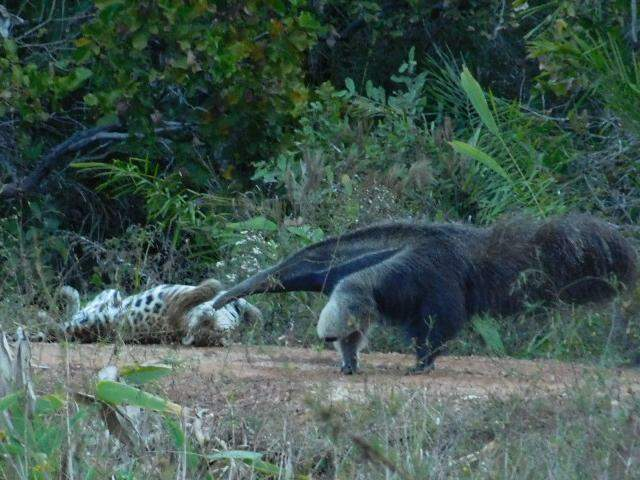TamanduaBandeira: (213, 220, 617, 375)
